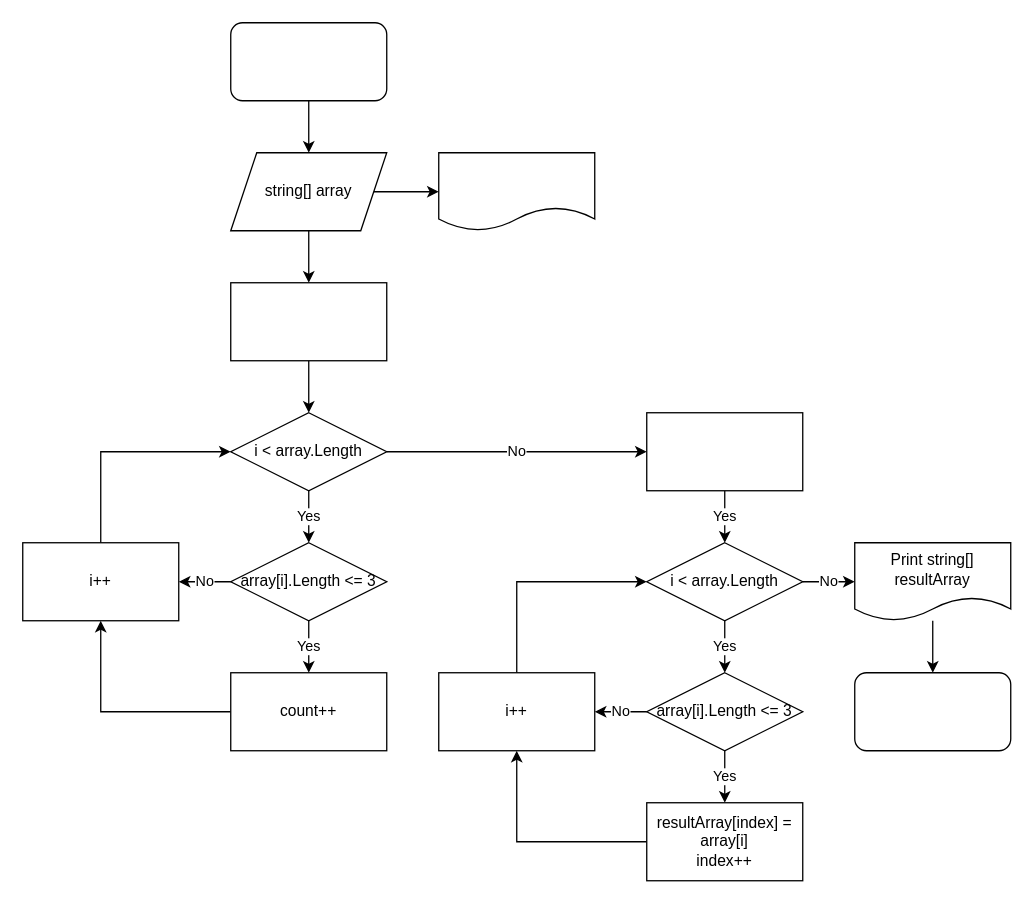
Some shapes in this 1034 by 903 pixel diagram are drawn without their labels. The shapes that lost their labels are listed below. From the top down, each one's box as (x1, y1, x2, y2) in pixels, then its label:
(229, 21, 387, 101): Start
(437, 151, 595, 231): Print string[] array
(229, 281, 387, 361): int count = 0 int i = 0
(645, 411, 803, 491): string[] resultArray int index = 0 lengthResultArray = count
(853, 671, 1011, 751): End
